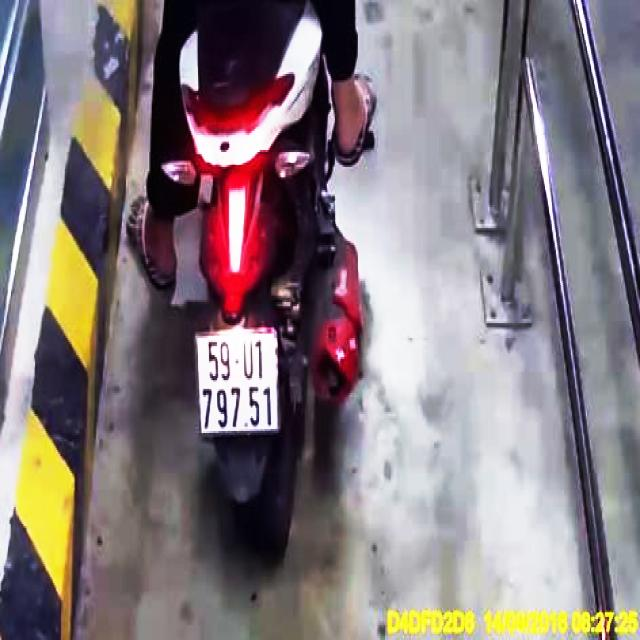license_plate: (200, 331, 280, 433)
